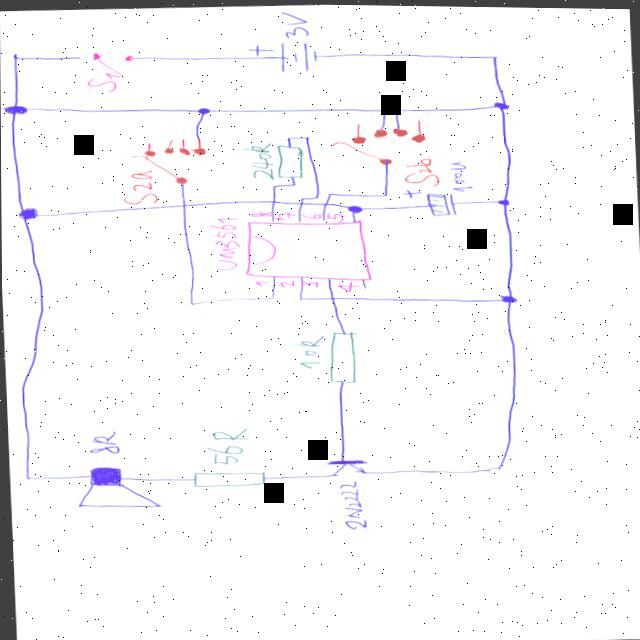capacitor: (398, 188, 457, 218)
crossover: (176, 202, 188, 209), (323, 294, 335, 300), (266, 199, 277, 205), (319, 201, 329, 207), (294, 200, 304, 206)
junction: (11, 206, 40, 223), (1, 101, 31, 117), (489, 98, 510, 110), (4, 51, 23, 64), (496, 292, 516, 303), (485, 462, 505, 473), (343, 203, 362, 214), (494, 196, 510, 205), (194, 106, 209, 115), (18, 474, 32, 482), (485, 52, 499, 60), (183, 299, 197, 307), (391, 106, 402, 112), (292, 296, 303, 302), (265, 295, 276, 301), (377, 106, 387, 112), (379, 191, 389, 197), (299, 135, 309, 140), (268, 183, 278, 188), (295, 195, 303, 201), (282, 135, 290, 140), (288, 182, 296, 187), (324, 191, 332, 196), (311, 194, 319, 199)
resistor: (322, 328, 359, 385), (188, 468, 267, 490), (272, 142, 305, 182)
source: (243, 35, 322, 75)
switch: (329, 116, 435, 169), (126, 132, 214, 186), (75, 50, 136, 79)
text: (202, 424, 254, 467), (206, 215, 239, 271), (334, 479, 368, 530), (119, 167, 156, 206), (286, 334, 324, 369), (240, 141, 273, 181), (399, 156, 440, 187), (83, 428, 125, 457), (277, 9, 310, 39), (82, 70, 123, 94), (444, 158, 472, 191), (334, 279, 357, 293), (323, 211, 342, 222), (247, 208, 267, 218), (273, 211, 292, 221), (276, 278, 295, 288), (298, 211, 319, 220), (302, 278, 317, 289), (250, 278, 268, 287)
transistor: (317, 455, 376, 480)
